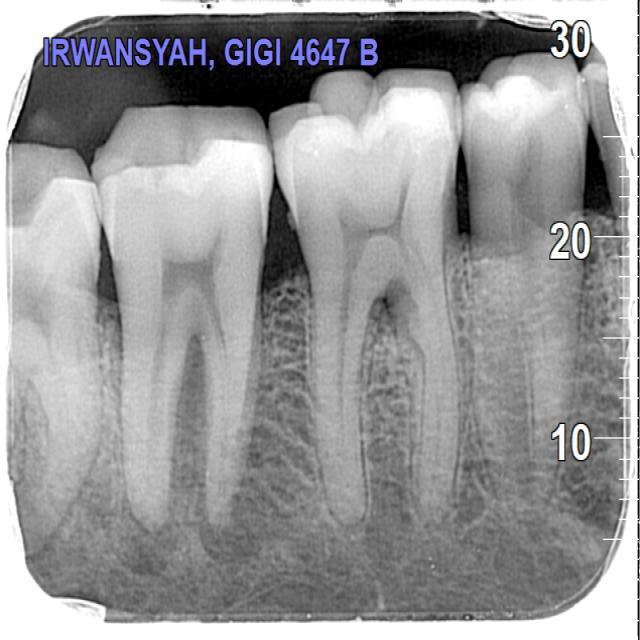individual-tooth-8tto: (267, 71, 472, 520), (86, 105, 272, 541), (457, 44, 584, 527)
